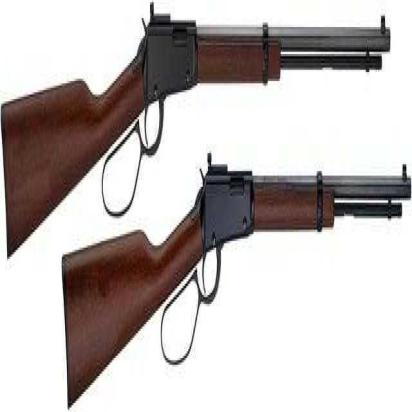Gun: (0, 0, 393, 266), (58, 139, 412, 409)
